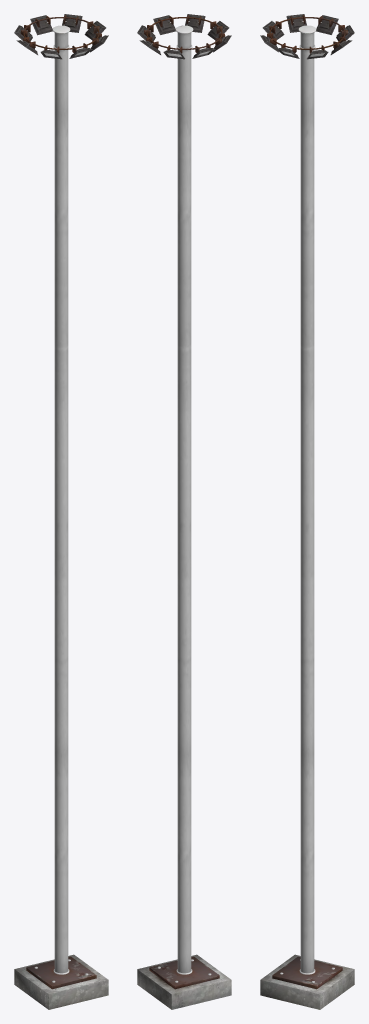
File: light-mast.glb
3 renders of one model, left to right at view 1: azimuth 30°, elevation 25°; view 2: azimuth 210°, elevation 25°; view 3: azimuth 330°, elevation 25°, orthographic.
Parts seen in each view (by area): view 1: lighting_mast_lighting_mast_0; view 2: lighting_mast_lighting_mast_0; view 3: lighting_mast_lighting_mast_0.
Part boxes in pixels (x1,y1,x2,y2): lighting_mast_lighting_mast_0: (14,14,108,1009); lighting_mast_lighting_mast_0: (137,14,231,1009); lighting_mast_lighting_mast_0: (260,14,354,1009).
Bounding box in the file's own units: 1.34 × 15.32 × 1.35.
Materials: 1 (1 with a texture image).
